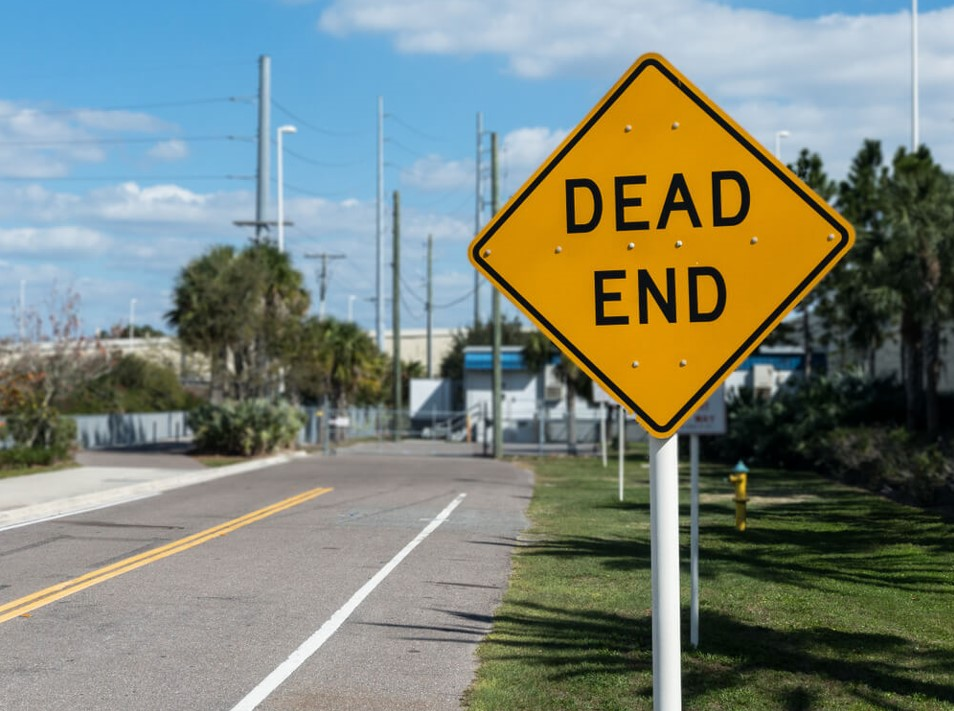Deadend: (467, 49, 855, 439)
